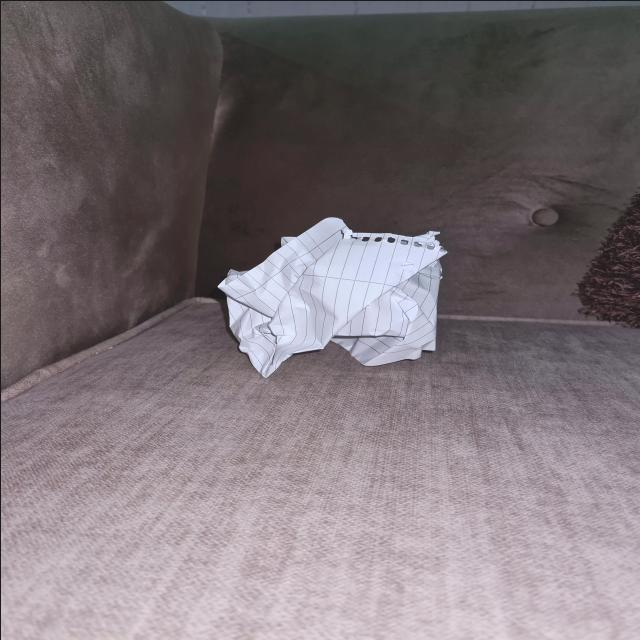Paper: (178, 179, 478, 431)
